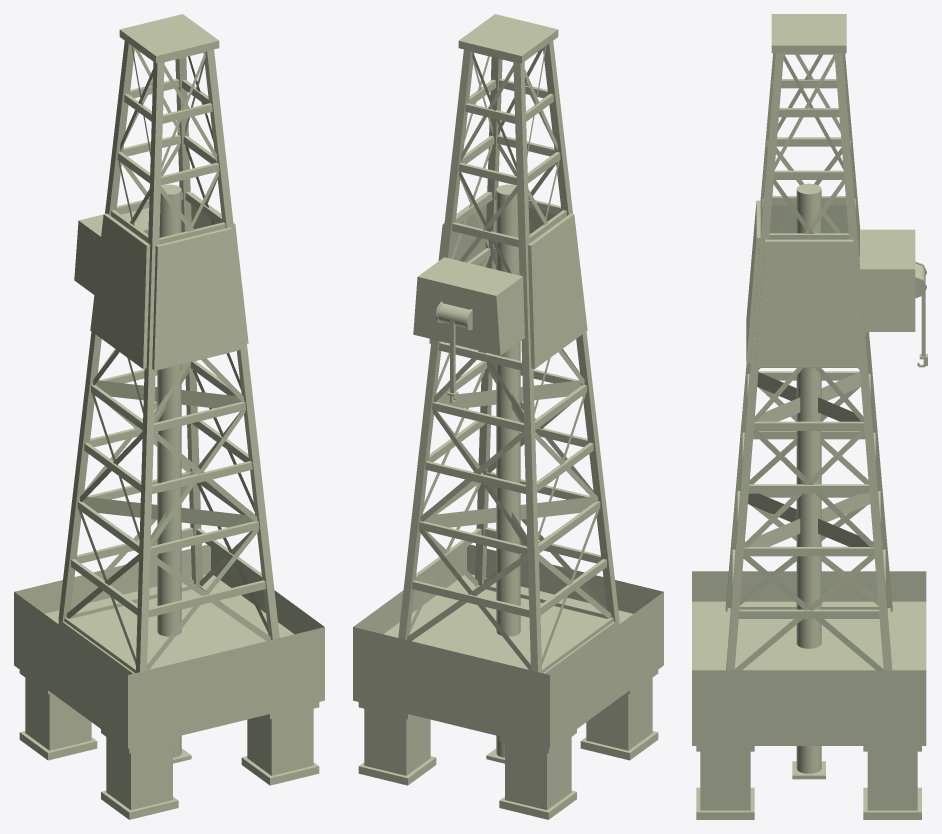
Rendered from hydraulic_frackining_tower2.obj.
The picture shows the model from 3 angles, left to right: view 1: azimuth 30°, elevation 25°; view 2: azimuth 150°, elevation 25°; view 3: azimuth 270°, elevation 25°; orthographic projection. The views are drawn at different scales.
Parts seen in each view (by area): view 1: Cube_Cube.001; view 2: Cube_Cube.001; view 3: Cube_Cube.001.
Boxes of the visible parts, box(x1,y1,x2,y2) form: Cube_Cube.001: box(14, 14, 324, 819); Cube_Cube.001: box(353, 14, 663, 819); Cube_Cube.001: box(692, 14, 927, 819).
Bounding box in the file's own units: 7 × 24.5 × 7.05.
